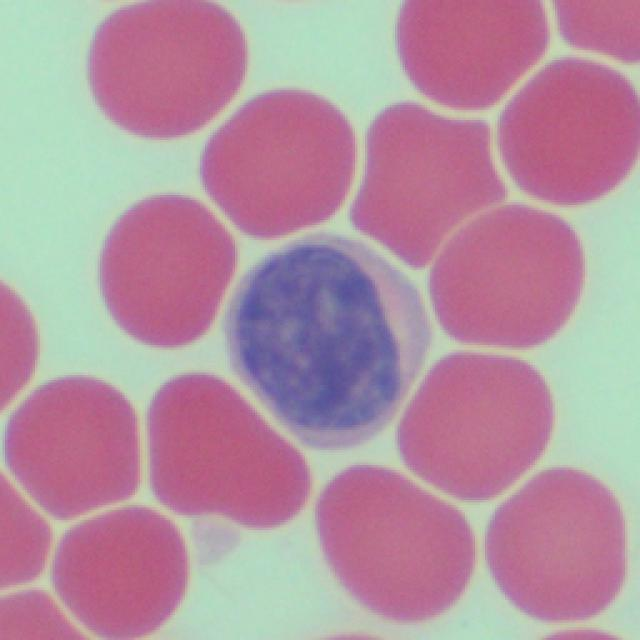RBC: (134, 358, 309, 535), (321, 460, 483, 624), (348, 88, 486, 268), (427, 199, 583, 356), (483, 457, 631, 621), (394, 350, 544, 511), (201, 79, 353, 237), (0, 361, 140, 525), (82, 0, 241, 144), (492, 54, 640, 206), (92, 189, 226, 356), (50, 503, 190, 639), (386, 2, 538, 119), (554, 0, 640, 73), (0, 264, 33, 425)
WBC: (228, 215, 423, 457)
